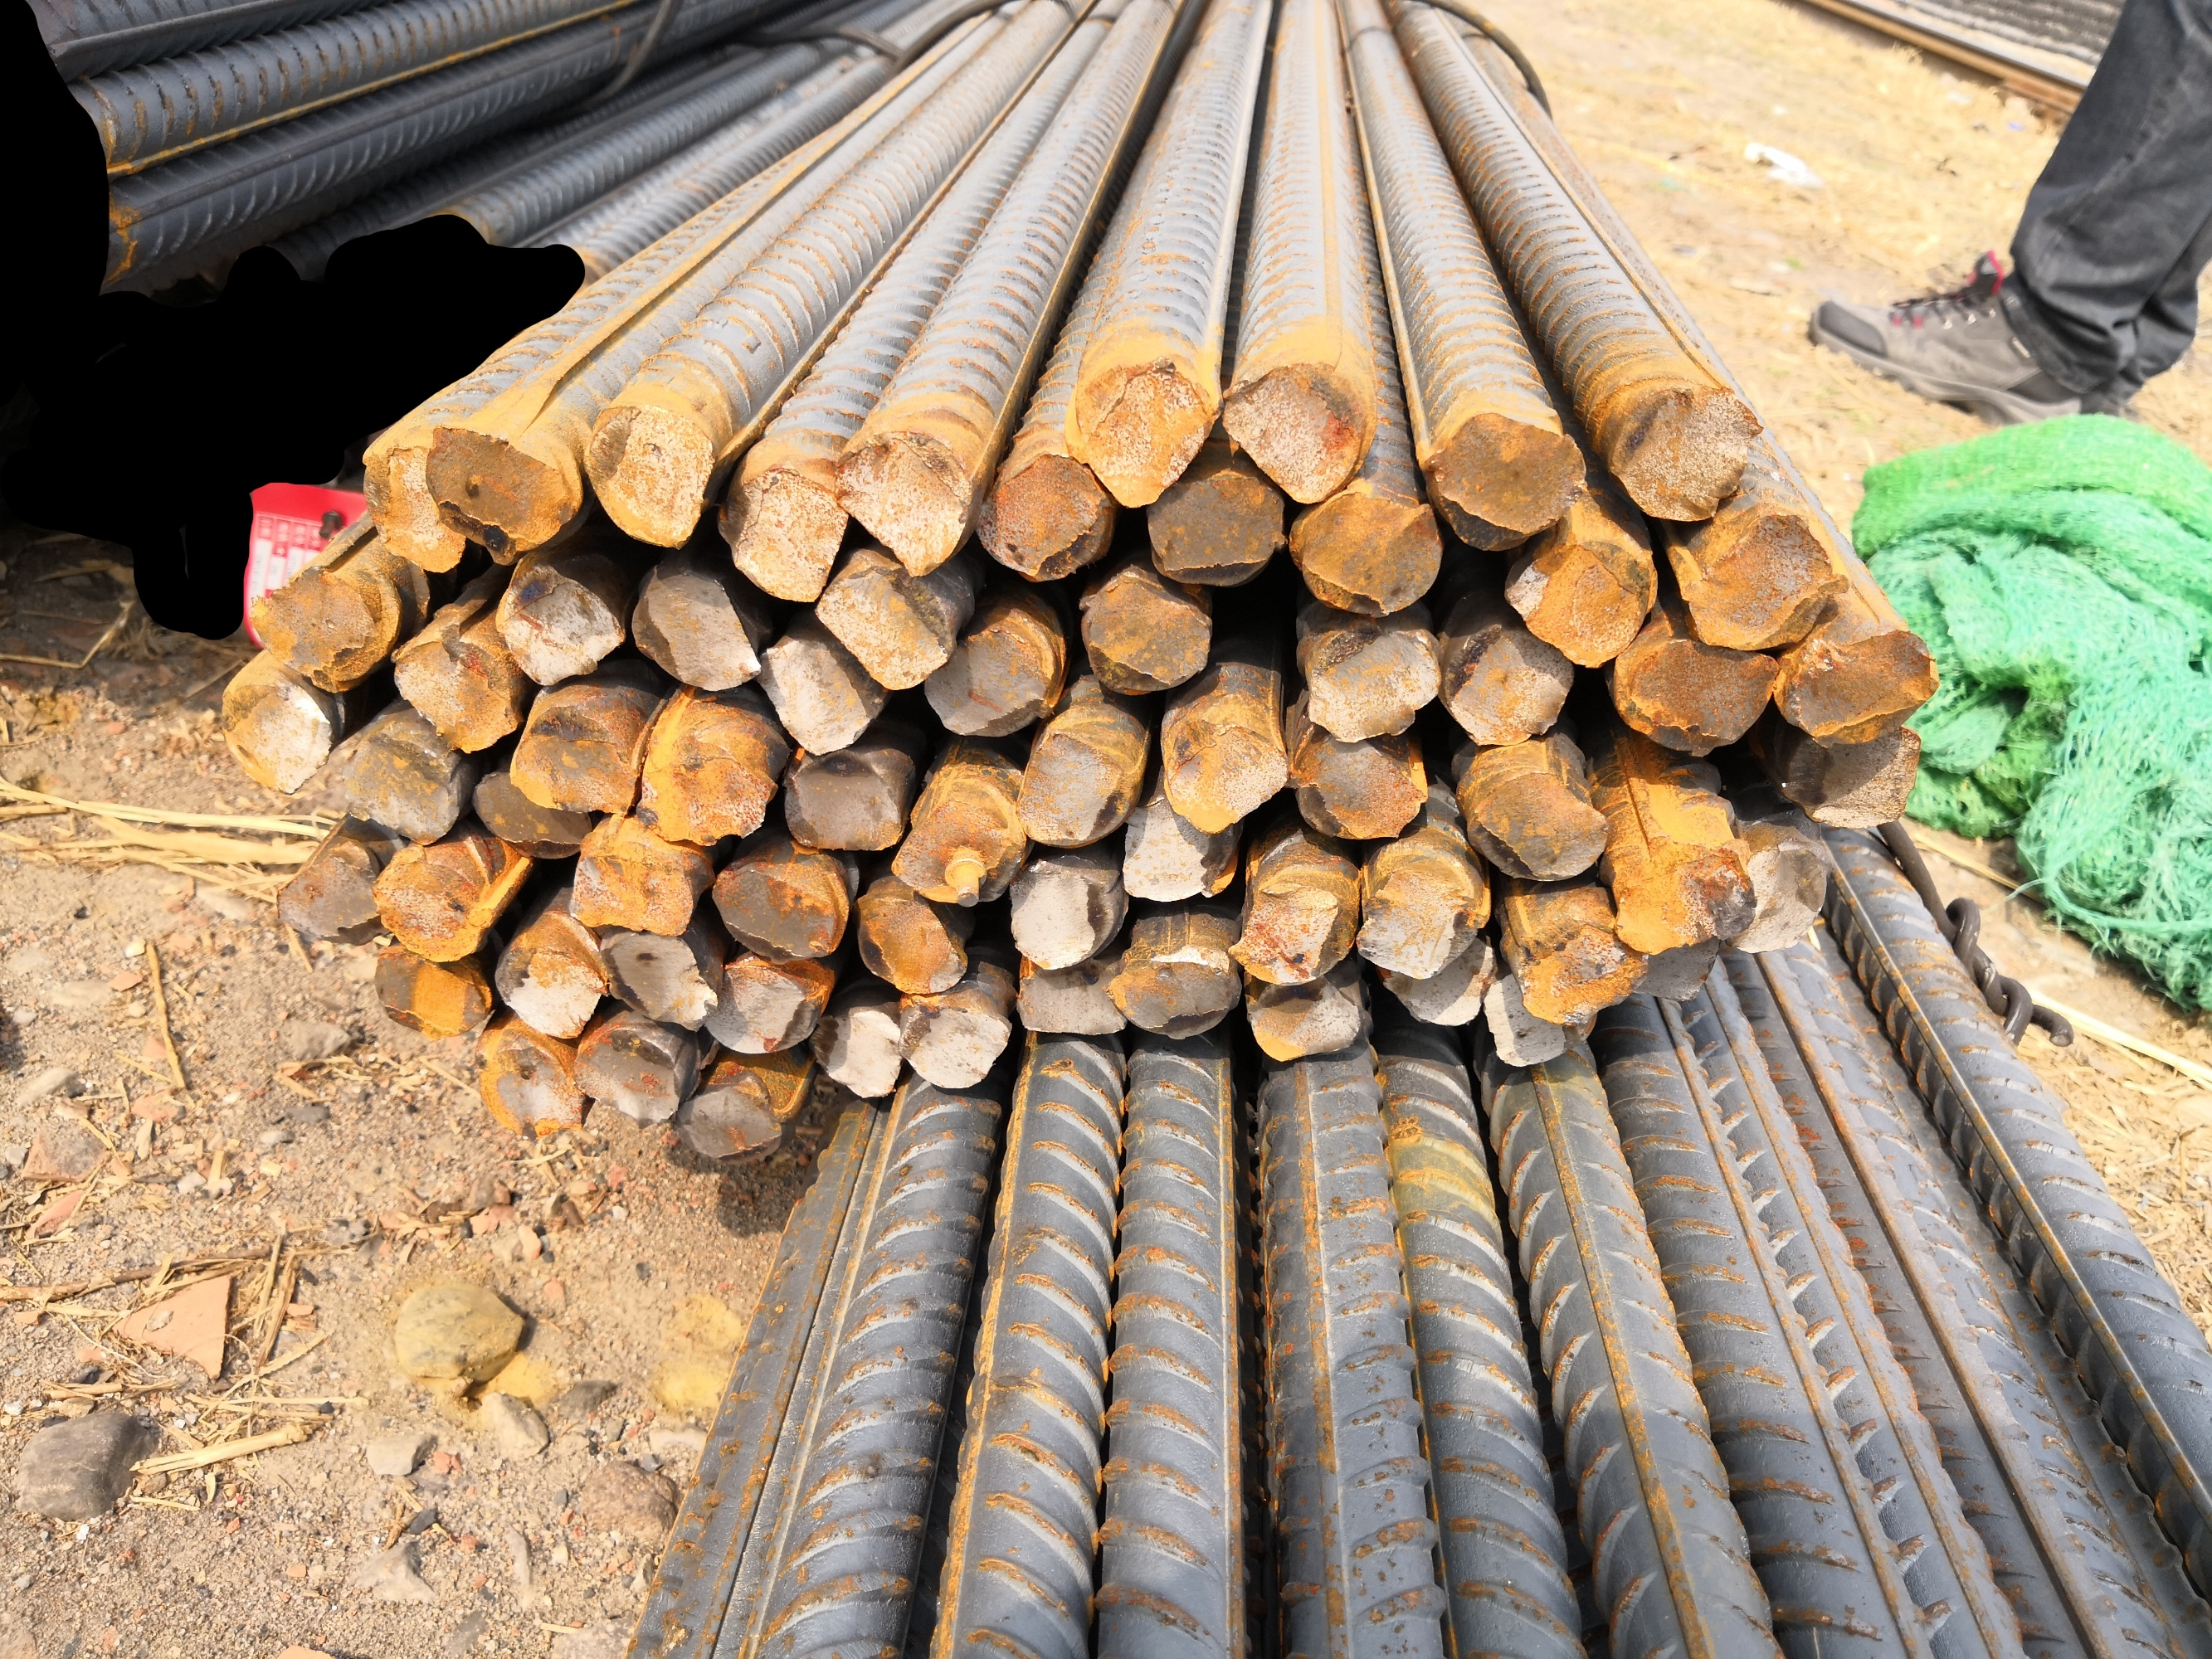rebar: (1417, 404, 1590, 556), (1677, 512, 1849, 653), (1220, 354, 1377, 509), (1065, 352, 1218, 511), (415, 416, 570, 568), (1611, 633, 1780, 767), (1283, 479, 1447, 617), (1503, 526, 1654, 674), (1611, 380, 1764, 526), (811, 544, 960, 692), (826, 429, 974, 579), (713, 464, 851, 610), (584, 399, 715, 552), (884, 775, 1027, 913), (1785, 629, 1947, 749), (488, 549, 626, 687), (976, 453, 1117, 587), (1300, 617, 1443, 748), (1142, 465, 1290, 591), (629, 554, 763, 692), (1438, 617, 1578, 749), (1074, 566, 1211, 697), (239, 565, 385, 687), (1283, 723, 1429, 843), (1506, 915, 1654, 1033), (750, 631, 887, 758), (1611, 838, 1761, 955), (920, 619, 1062, 742), (1464, 767, 1609, 887), (387, 629, 519, 758), (500, 692, 638, 816), (633, 730, 776, 847), (1353, 859, 1490, 979), (352, 437, 471, 575), (706, 854, 847, 967), (1781, 718, 1923, 829), (1014, 725, 1135, 852), (1161, 713, 1286, 833), (1475, 962, 1607, 1072), (556, 835, 697, 938), (340, 727, 460, 847), (214, 674, 333, 796), (363, 934, 499, 1040), (368, 857, 497, 969), (999, 854, 1119, 972), (1229, 870, 1353, 985), (781, 748, 912, 856), (847, 885, 971, 997), (598, 925, 718, 1037), (465, 1033, 589, 1141), (692, 955, 821, 1058), (486, 939, 605, 1049), (1107, 948, 1239, 1046), (1121, 789, 1229, 908), (1377, 931, 1501, 1033), (887, 992, 1014, 1091), (1724, 840, 1829, 958), (570, 1019, 683, 1127), (1245, 972, 1370, 1068), (467, 765, 591, 861), (798, 997, 906, 1105), (1006, 958, 1130, 1047), (270, 852, 382, 950), (669, 1082, 788, 1169), (1623, 922, 1729, 1012)
